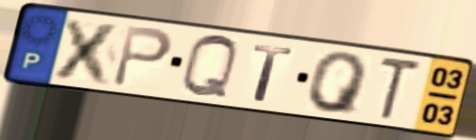P: (109, 23, 176, 90)
Q: (306, 51, 371, 118), (178, 33, 241, 102)
T: (375, 54, 425, 122), (250, 42, 297, 104)
X: (48, 15, 127, 89)
